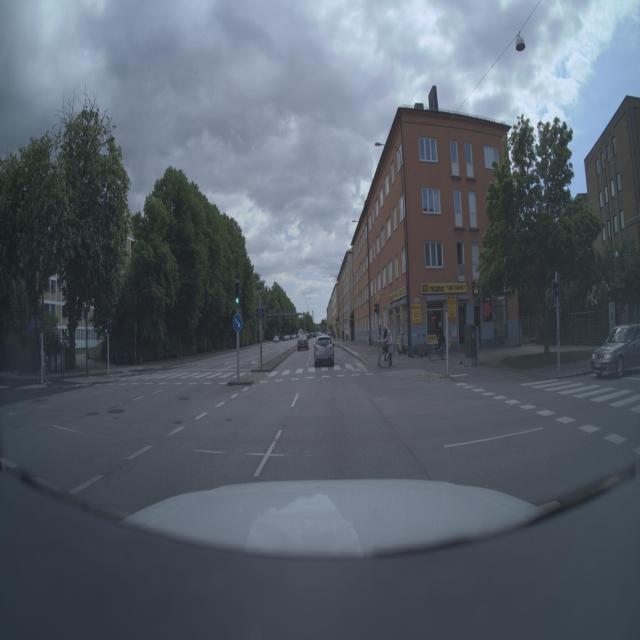green_light: (227, 279, 251, 330)
